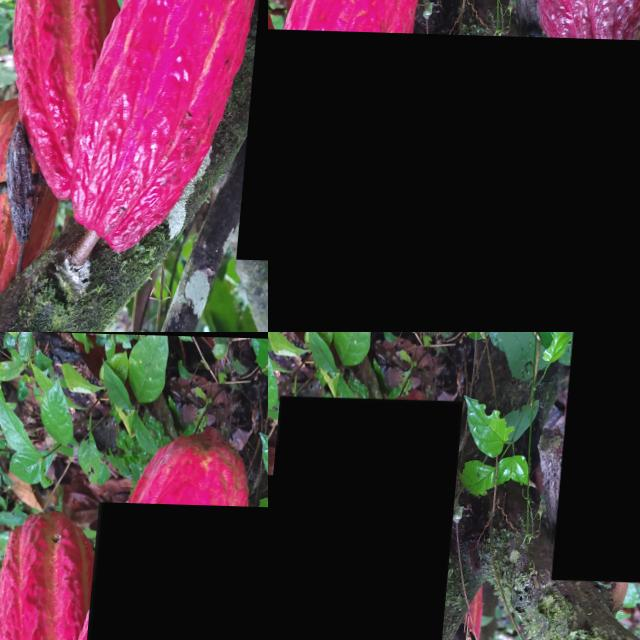Fitoftora: (83, 501, 268, 640), (245, 125, 268, 258)
Sana: (268, 27, 640, 332), (268, 395, 464, 640), (556, 332, 640, 579), (268, 472, 315, 640)
